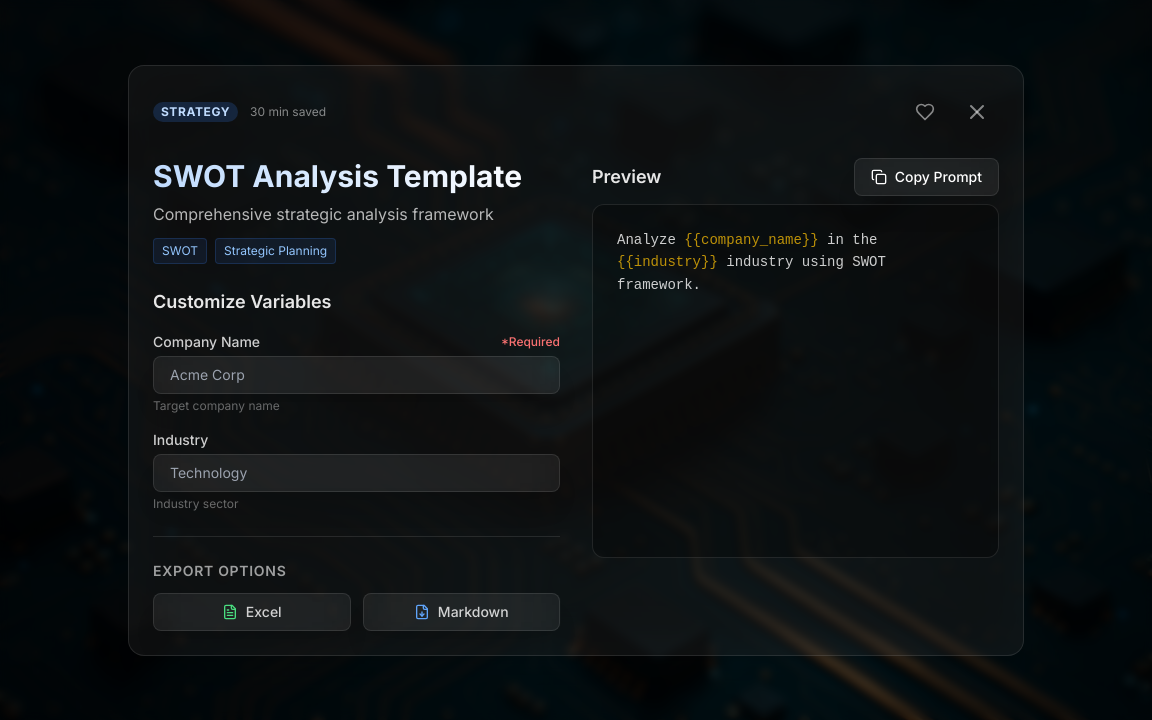
Test: PromptModal › copy functionality › should show copied confirmation
Step 1. Click the button "Copy Prompt" → (926,176), box [854, 158, 999, 196]
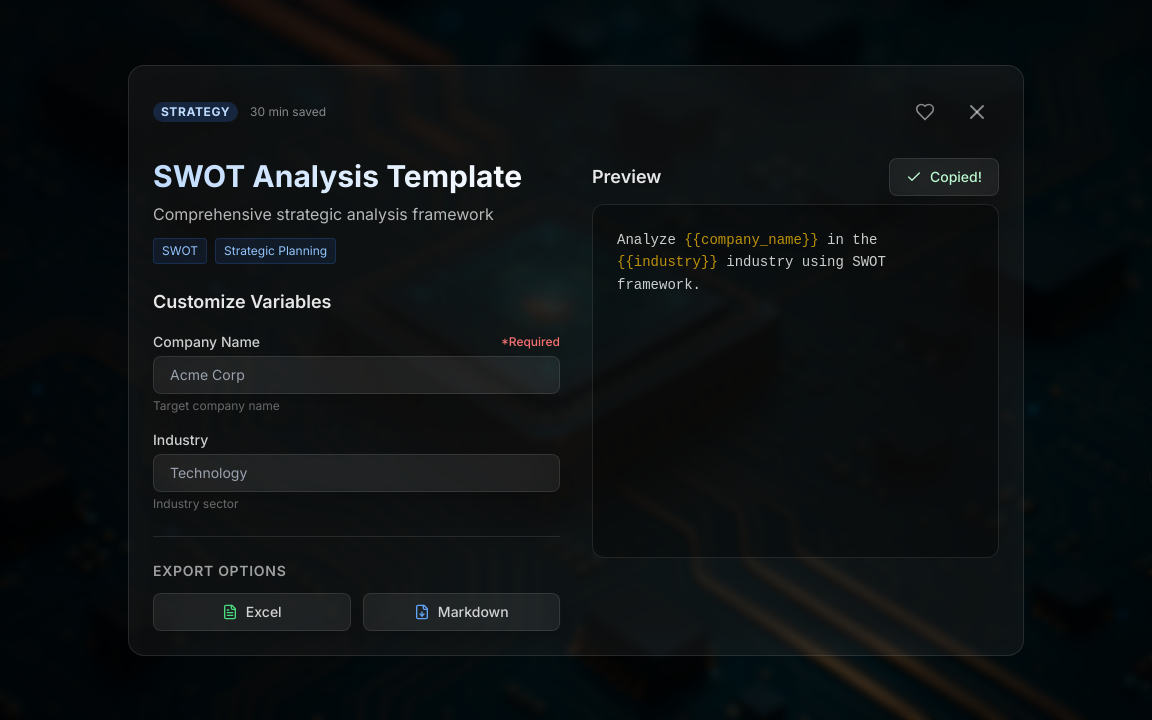
Now the button "Copied!" is shown, box [889, 158, 999, 196]
